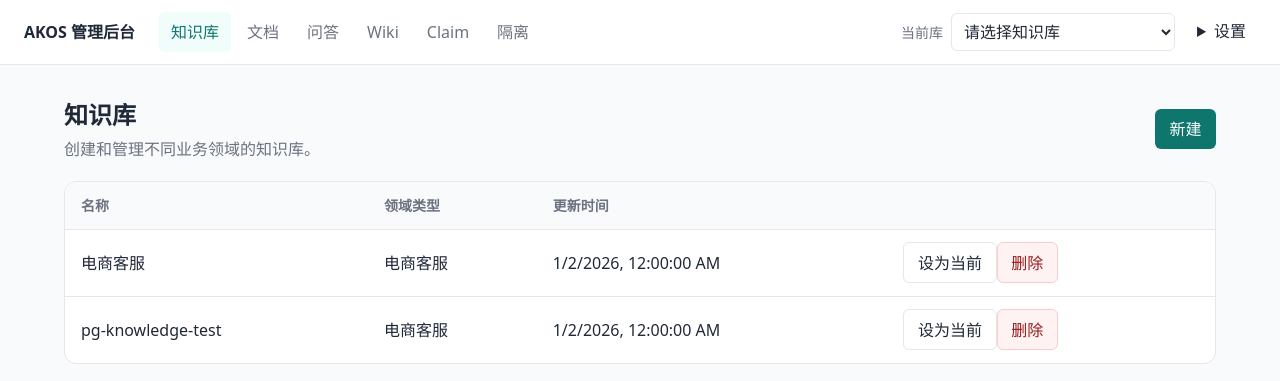
Scenario: knowledge base pages › deletes a knowledge base from the list after confirmation
The image size is (1280, 381).
Expected: the text "pg-knowledge-test" is shown, 65,296 -> 368,363
Click the button "删除" in the row of "pg-knowledge-test". click: (1027, 330)
box: 997,309 -> 1058,350
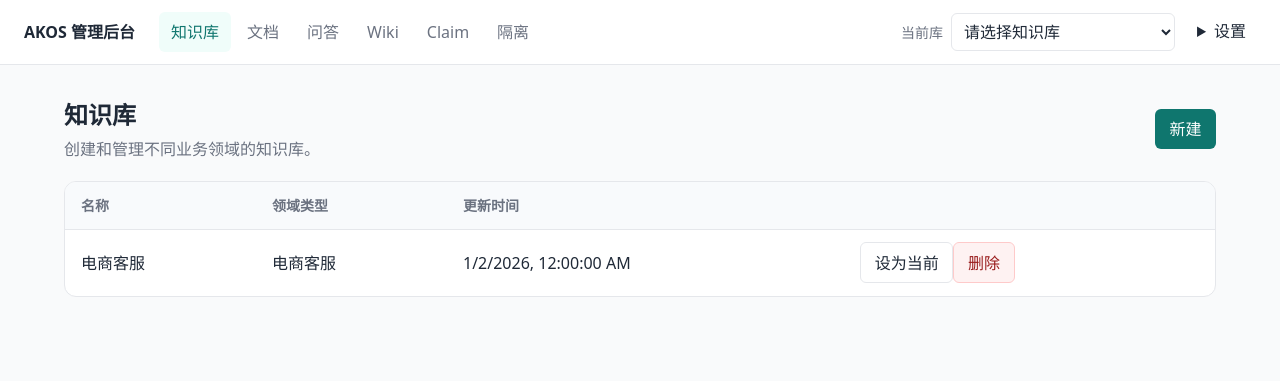
Now the text "pg-knowledge-test" is gone
